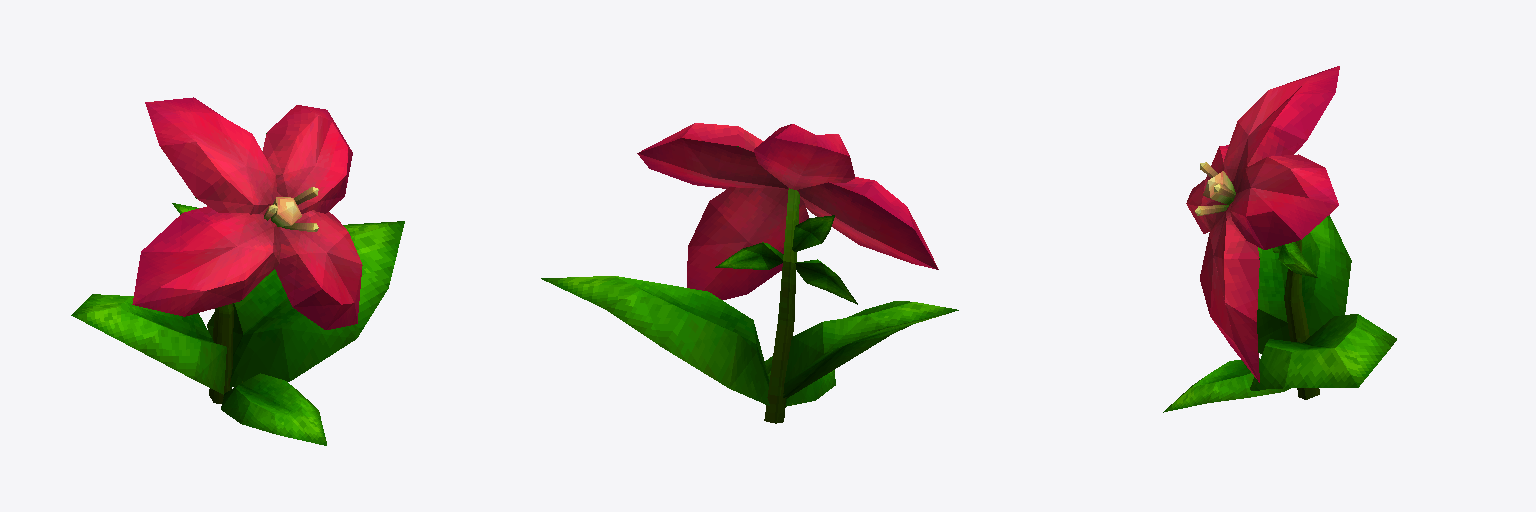
3 views of the same model, side by side, from view 1: azimuth 30°, elevation 25°; view 2: azimuth 150°, elevation 25°; view 3: azimuth 270°, elevation 25° (orthographic).
Visible parts, largest first — view 1: Inst3D27_RefRep.226; view 2: Inst3D27_RefRep.226; view 3: Inst3D27_RefRep.226.
Boxes of the visible parts, <box> form: Inst3D27_RefRep.226: <box>71,97,404,445</box>; Inst3D27_RefRep.226: <box>541,123,958,423</box>; Inst3D27_RefRep.226: <box>1163,66,1396,412</box>.
Size of the model in its own units: 3.9 by 2.99 by 2.11.
Materials: 1 (1 with a texture image).